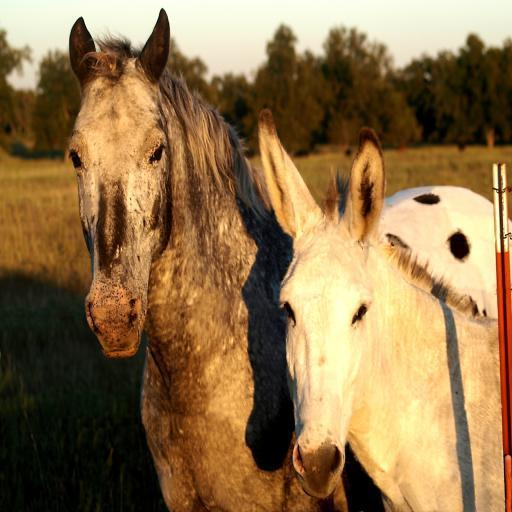horse: (68, 6, 383, 512), (256, 106, 506, 512)
